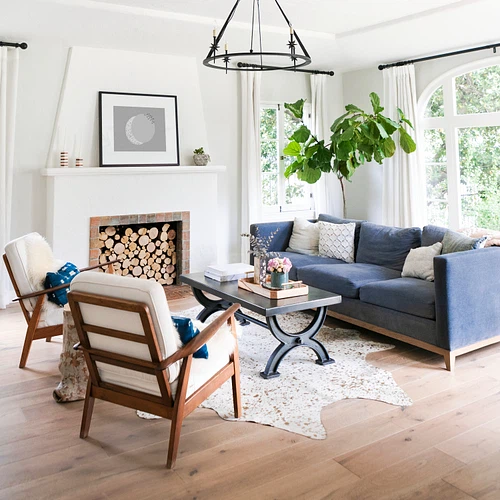chair: (70, 268, 245, 469), (1, 227, 125, 369)
flower vase: (240, 225, 276, 284), (268, 255, 291, 289)
large plant: (279, 89, 421, 218)
sofa: (247, 211, 500, 372)
table: (179, 265, 346, 381)
wall art: (97, 90, 182, 168)
